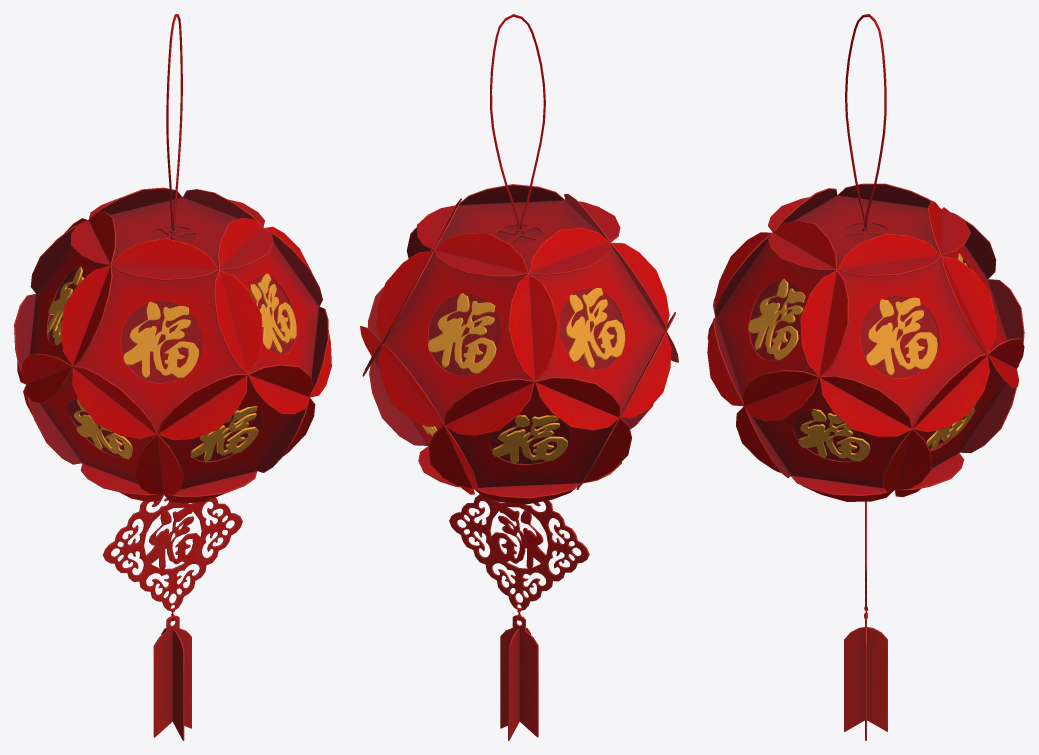
File: Chinese New Year Lantern.glb
3 renders of one model, left to right at view 1: azimuth 30°, elevation 25°; view 2: azimuth 150°, elevation 25°; view 3: azimuth 270°, elevation 25°, orthographic.
Parts seen in each view (by area): view 1: xd denglong polySurface141_1001_4, polySurface140 xd denglong_1001_2, xd denglong polySurface132_1001_44, xd denglong polySurface121_1001_40, xd denglong polySurface134_1001_58, xd denglong polySurface115_1001_48, pasted__polySurface1 pasted__pPlane9 group_1001_14, xd denglong polySurface123_1001_38, xd denglong polySurface136_1001_56, xd denglong sz:polySurface122xddenglong_1001_18, xd denglong polySurface142_1001_62, xd denglong polySurface118_1001_42 (+10 smaller); view 2: xd denglong polySurface118_1001_42, xd denglong polySurface115_1001_48, xd denglong polySurface142_1001_62, xd denglong polySurface121_1001_40, pasted__polySurface1 pasted__pPlane9 group_1001_14, xd denglong polySurface123_1001_38, xd denglong sz:polySurface122xddenglong_1001_18, xd denglong polySurface126_1001_34, xd denglong polySurface127_1001_28, xd denglong polySurface108_1001_24, xd denglong polySurface137_1001_8, xd denglong polySurface131_1001_50 (+7 smaller); view 3: xd denglong polySurface119_1001_64, polySurface140 xd denglong_1001_2, xd denglong polySurface131_1001_50, xd denglong polySurface121_1001_40, pasted__polySurface1 pasted__pPlane9 group_1001_14, xd denglong polySurface135_1001_60, xd denglong sz:xddenglongpolySurface124_1001_16, xd denglong polySurface113_1001_52, xd denglong polySurface142_1001_62, xd denglong polySurface118_1001_42, xd denglong polySurface112_1001_54, xd denglong polySurface115_1001_48 (+6 smaller).
Boxes of the visible parts, left/top/right/bottom form: xd denglong polySurface141_1001_4: left=60, top=238, right=262, bottom=440; polySurface140 xd denglong_1001_2: left=214, top=218, right=331, bottom=414; xd denglong polySurface132_1001_44: left=133, top=364, right=315, bottom=503; xd denglong polySurface121_1001_40: left=70, top=197, right=273, bottom=280; xd denglong polySurface134_1001_58: left=21, top=354, right=183, bottom=501; xd denglong polySurface115_1001_48: left=17, top=211, right=116, bottom=403; pasted__polySurface1 pasted__pPlane9 group_1001_14: left=49, top=227, right=293, bottom=461; xd denglong polySurface123_1001_38: left=103, top=494, right=242, bottom=611; xd denglong polySurface136_1001_56: left=123, top=301, right=198, bottom=377; xd denglong sz:polySurface122xddenglong_1001_18: left=153, top=615, right=191, bottom=737; xd denglong polySurface142_1001_62: left=14, top=294, right=81, bottom=464; xd denglong polySurface118_1001_42: left=30, top=187, right=182, bottom=297; xd denglong polySurface118_1001_42: left=376, top=233, right=558, bottom=435; xd denglong polySurface115_1001_48: left=508, top=228, right=671, bottom=430; xd denglong polySurface142_1001_62: left=429, top=377, right=631, bottom=504; xd denglong polySurface121_1001_40: left=417, top=200, right=620, bottom=276; pasted__polySurface1 pasted__pPlane9 group_1001_14: left=428, top=225, right=623, bottom=463; xd denglong polySurface123_1001_38: left=449, top=494, right=589, bottom=610; xd denglong sz:polySurface122xddenglong_1001_18: left=500, top=615, right=538, bottom=737; xd denglong polySurface126_1001_34: left=428, top=293, right=496, bottom=373; xd denglong polySurface127_1001_28: left=565, top=288, right=625, bottom=368; xd denglong polySurface108_1001_24: left=492, top=415, right=567, bottom=463; xd denglong polySurface137_1001_8: left=491, top=507, right=546, bottom=569; xd denglong polySurface131_1001_50: left=367, top=286, right=427, bottom=445; xd denglong polySurface119_1001_64: left=800, top=233, right=996, bottom=436; polySurface140 xd denglong_1001_2: left=707, top=220, right=848, bottom=421; xd denglong polySurface131_1001_50: left=736, top=370, right=931, bottom=501; xd denglong polySurface121_1001_40: left=768, top=195, right=970, bottom=276; pasted__polySurface1 pasted__pPlane9 group_1001_14: left=750, top=224, right=951, bottom=461; xd denglong polySurface135_1001_60: left=883, top=338, right=1024, bottom=496; xd denglong sz:xddenglongpolySurface124_1001_16: left=844, top=627, right=887, bottom=731; xd denglong polySurface113_1001_52: left=866, top=297, right=937, bottom=375; xd denglong polySurface142_1001_62: left=942, top=279, right=1024, bottom=453; xd denglong polySurface118_1001_42: left=927, top=202, right=1019, bottom=388; xd denglong polySurface112_1001_54: left=748, top=279, right=805, bottom=360; xd denglong polySurface115_1001_48: left=838, top=183, right=996, bottom=278.
Size of the model in its own units: 43.74 by 109 by 43.57.
Materials: 1 (1 with a texture image).
